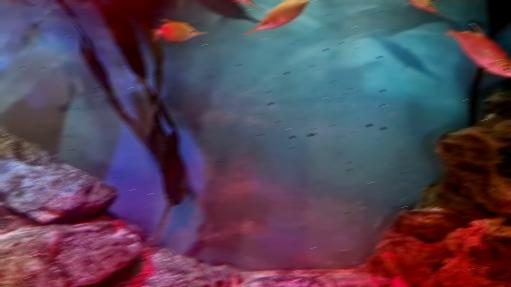Fish: (448, 23, 510, 72), (374, 36, 439, 81), (244, 0, 307, 35), (154, 19, 206, 42), (205, 0, 258, 22), (21, 21, 41, 46), (382, 250, 399, 274), (409, 0, 438, 13), (250, 0, 264, 11), (391, 277, 405, 286), (371, 274, 378, 286), (233, 273, 238, 286), (24, 0, 34, 6)
